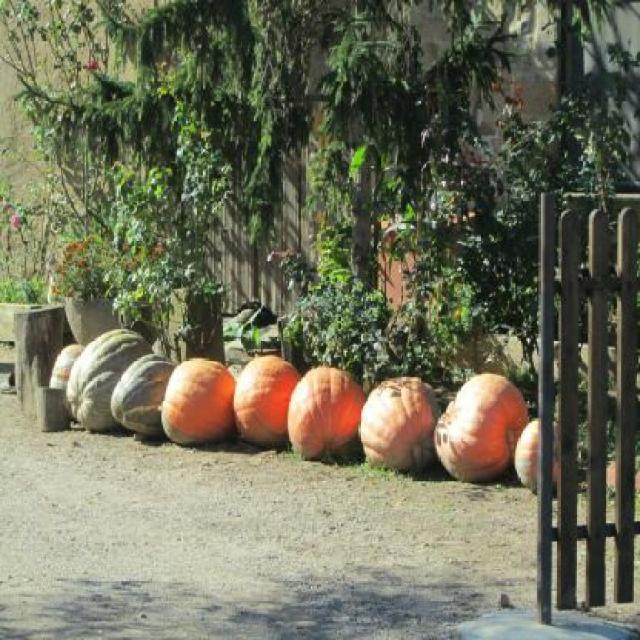Pumpkin: (434, 373, 528, 482), (66, 329, 152, 429), (360, 374, 442, 470), (287, 363, 363, 455), (160, 357, 237, 446), (106, 352, 178, 437), (236, 350, 298, 447), (512, 416, 568, 494), (51, 339, 83, 408), (600, 460, 624, 486), (636, 468, 638, 492)
